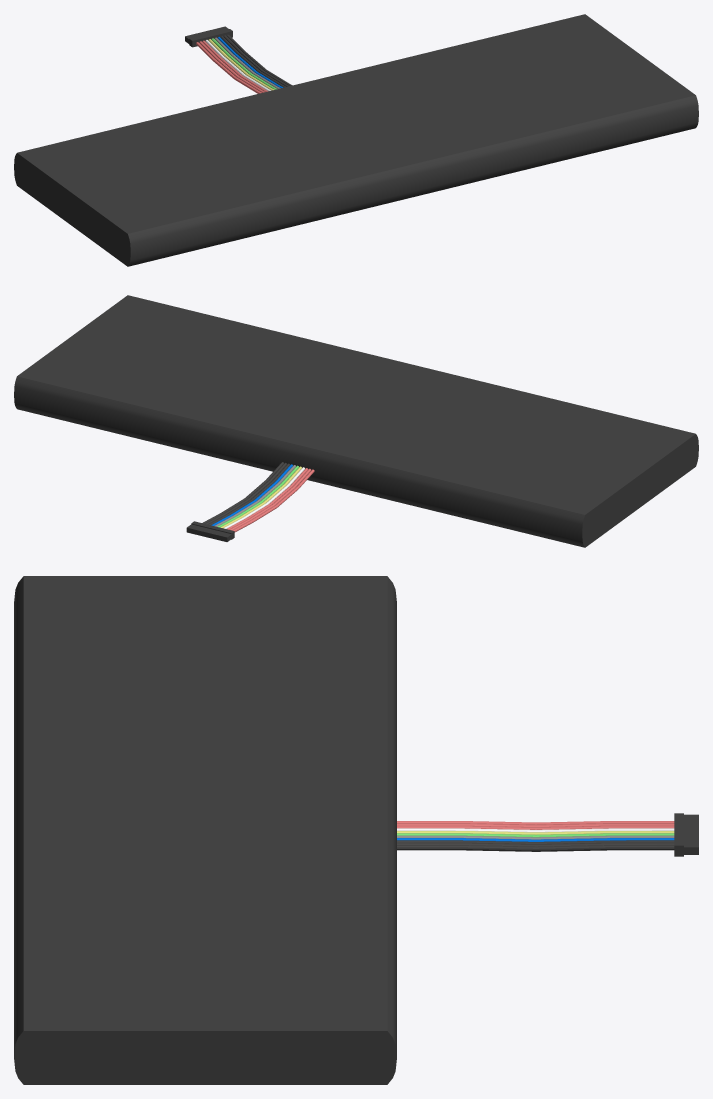
The model's file is Laptop_Battery.fbx.
The picture shows the model from 3 angles, top to bottom: view 1: azimuth 30°, elevation 25°; view 2: azimuth 150°, elevation 25°; view 3: azimuth 270°, elevation 25°; orthographic projection. The views are drawn at different scales.
Visible parts, largest first — view 1: polySurface188; view 2: polySurface188; view 3: polySurface188.
Boxes of the visible parts, <box> form: polySurface188: <box>14,14,698,266</box>; polySurface188: <box>14,295,698,547</box>; polySurface188: <box>14,576,698,1084</box>.
Size of the model in its own units: 2.91 by 0.1614 by 1.85.
